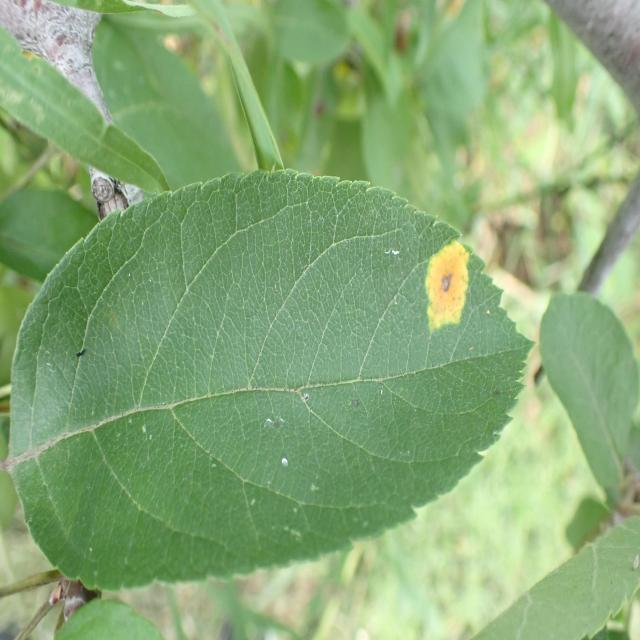Rust: (403, 224, 508, 378)
